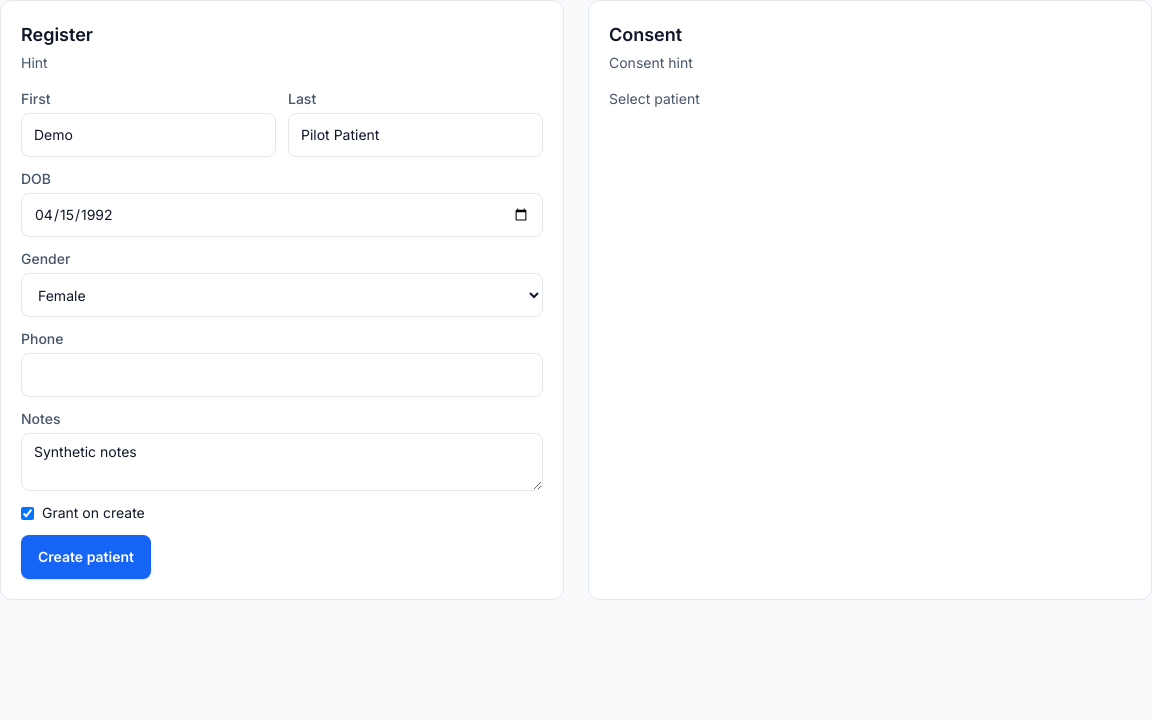
Test case: PatientOnboardingPanel › refetches and shows active consent when create-time grant returns 409 duplicate
Click the button "Create patient" at (86, 557), box 21,535 -> 151,579
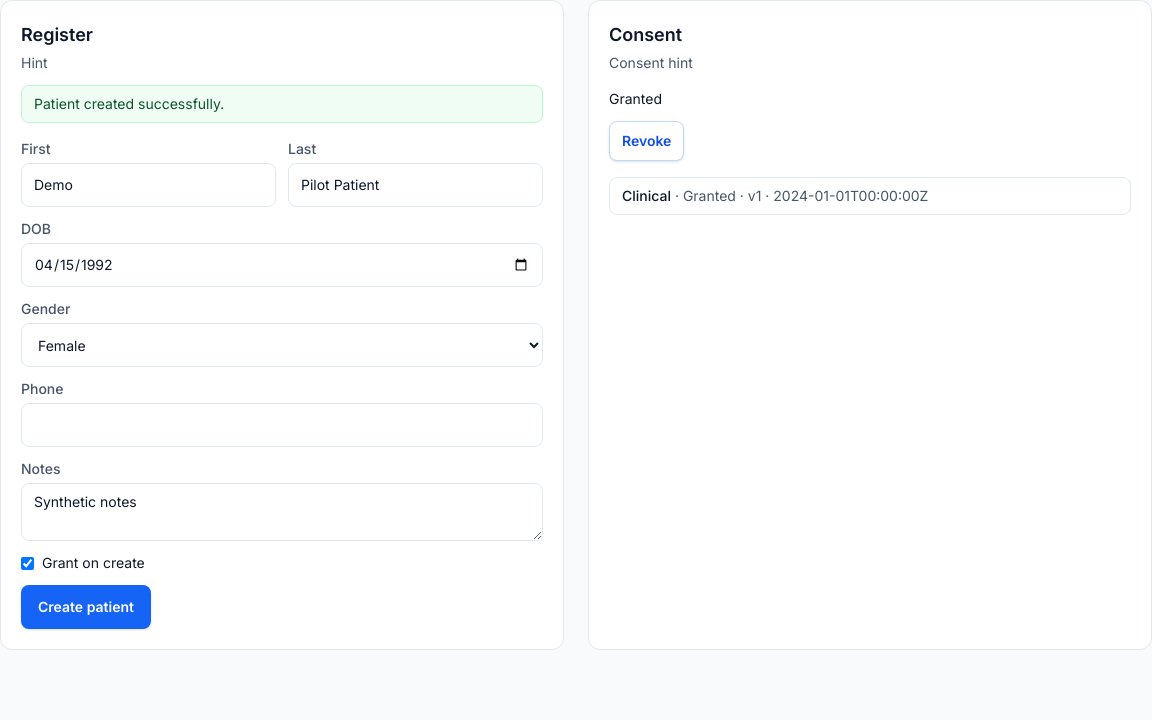
expect the text "Granted" is shown: met, box 609,90 -> 662,107
expect the button "Revoke" is shown: met, box 609,121 -> 684,161
